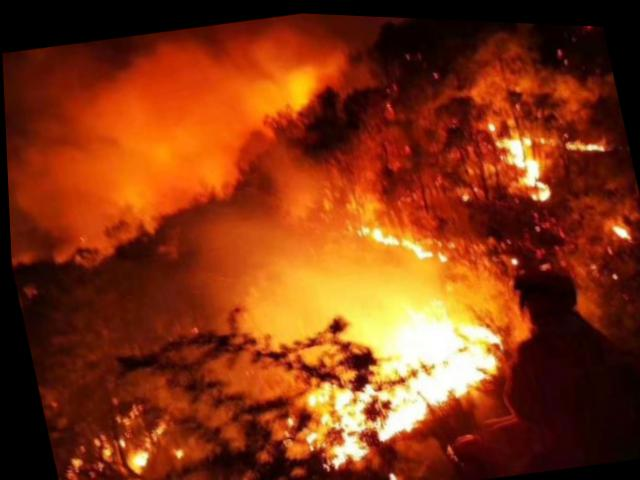fire: (272, 289, 529, 475), (463, 88, 614, 208), (41, 389, 191, 477), (347, 199, 458, 275)
